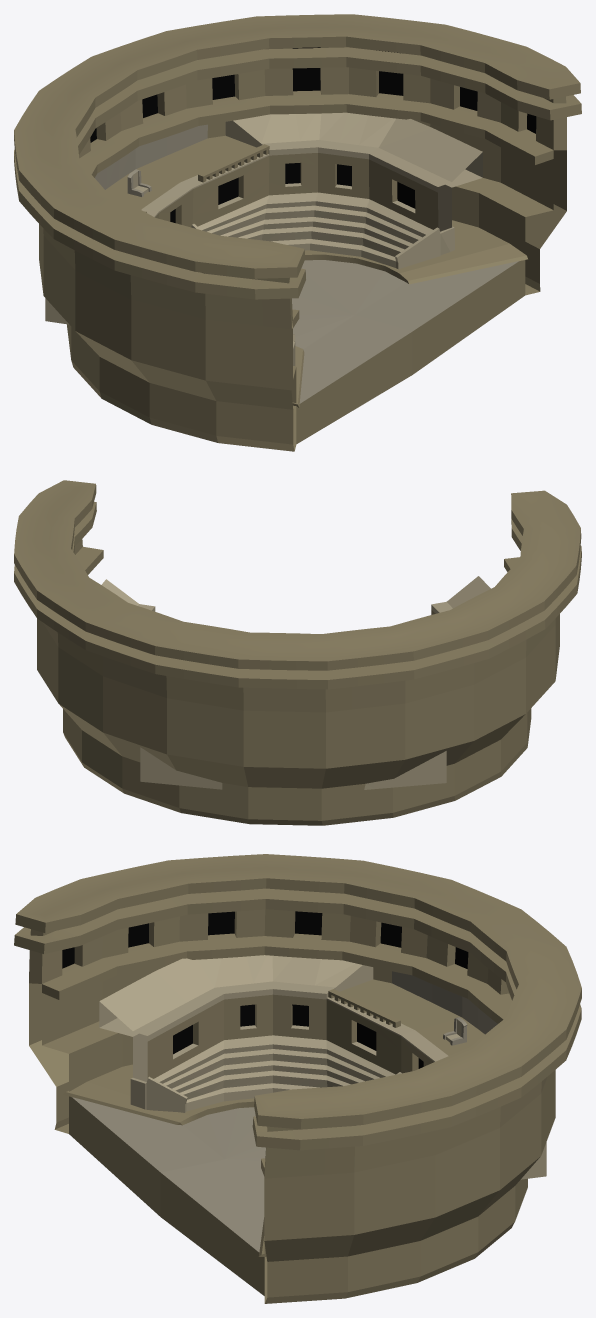
Rendered from colloseum.fbx.
3 views of the same model, one above another, from view 1: azimuth 30°, elevation 25°; view 2: azimuth 150°, elevation 25°; view 3: azimuth 270°, elevation 25° (orthographic). The views are drawn at different scales.
Visible parts, largest first — view 1: polySurface2, polySurface1, pCube6; view 2: polySurface2, polySurface1; view 3: polySurface2, polySurface1, pCube7.
Part boxes in pixels (x1,y1,x2,y2): polySurface2: (14, 14, 581, 451); polySurface1: (45, 112, 482, 365); pCube6: (198, 144, 269, 182); polySurface2: (14, 480, 581, 825); polySurface1: (101, 576, 490, 789); polySurface2: (14, 854, 581, 1303); polySurface1: (99, 955, 546, 1179); pCube7: (328, 989, 400, 1027).
Bounding box in the file's own units: 908 × 340 × 821.
